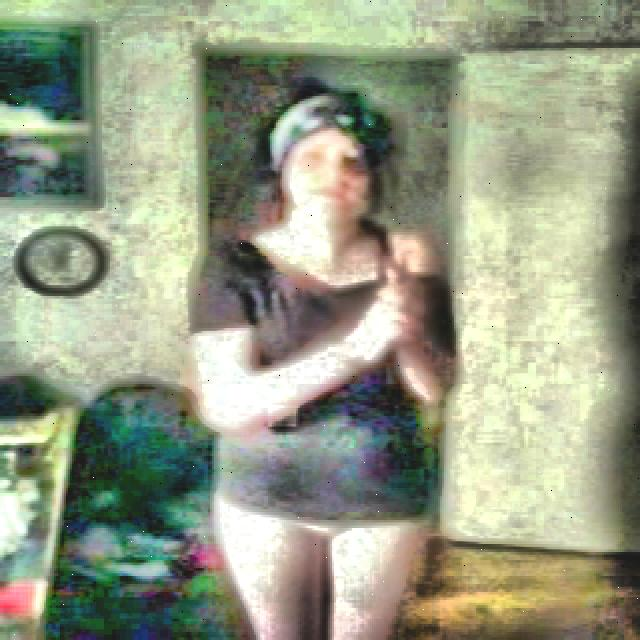F: (189, 76, 458, 639)
